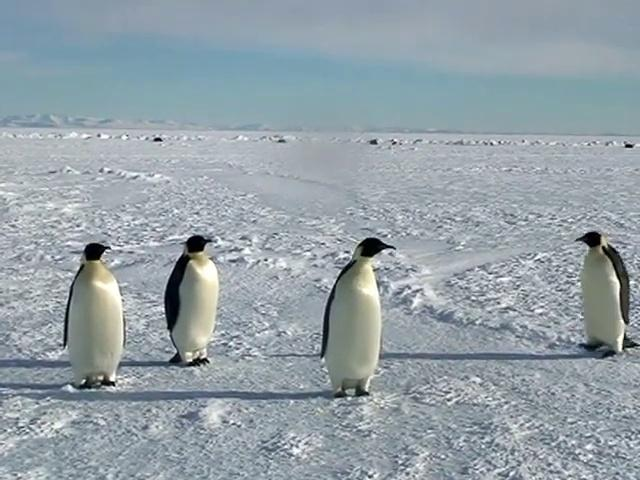animal: (322, 239, 395, 398)
